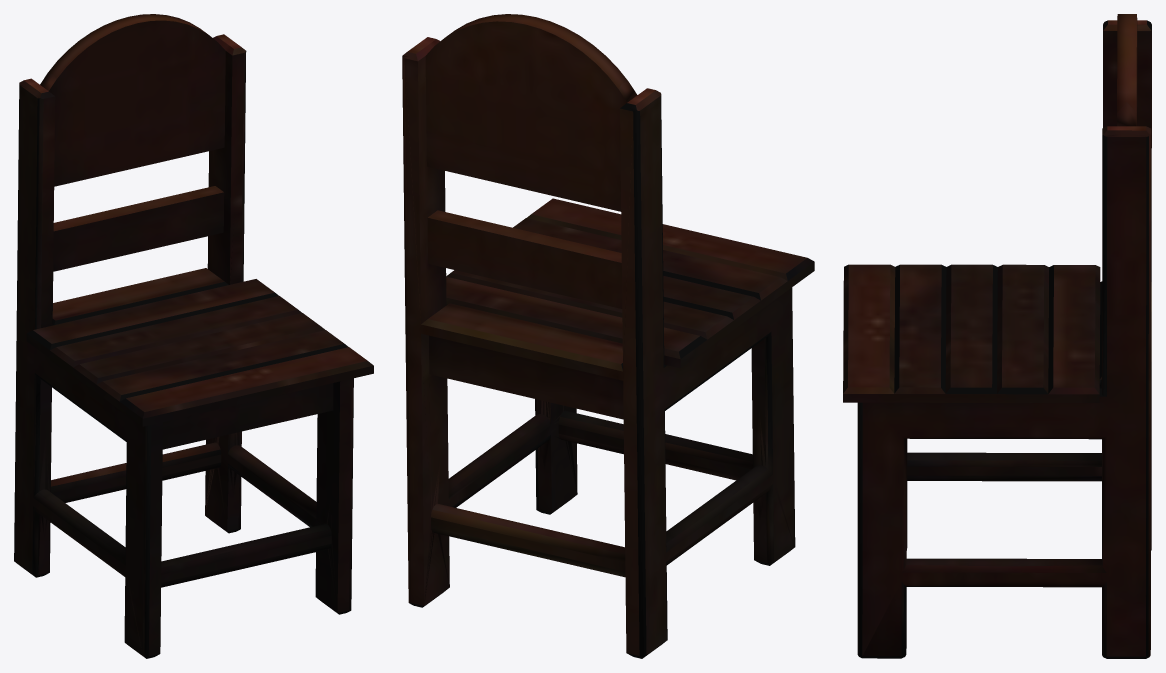
Rendered from bar ivan moro sedia 1.glb.
3 views of the same model, side by side, from view 1: azimuth 30°, elevation 25°; view 2: azimuth 150°, elevation 25°; view 3: azimuth 270°, elevation 25° (orthographic). The views are drawn at different scales.
Parts seen in each view (by area): view 1: Object_30.005; view 2: Object_30.005; view 3: Object_30.005.
Part boxes in pixels (x1=…): Object_30.005: x1=14, y1=14, x2=373, y2=658; Object_30.005: x1=402, y1=14, x2=814, y2=658; Object_30.005: x1=843, y1=14, x2=1151, y2=658.
Size of the model in its own units: 0.4571 by 0.9965 by 0.4801.
1 material, 1 textured.
